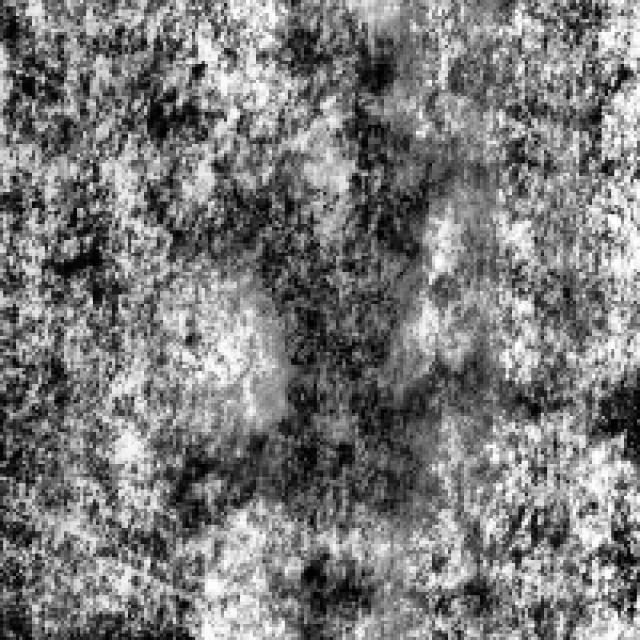Scratches: (192, 16, 445, 515)
